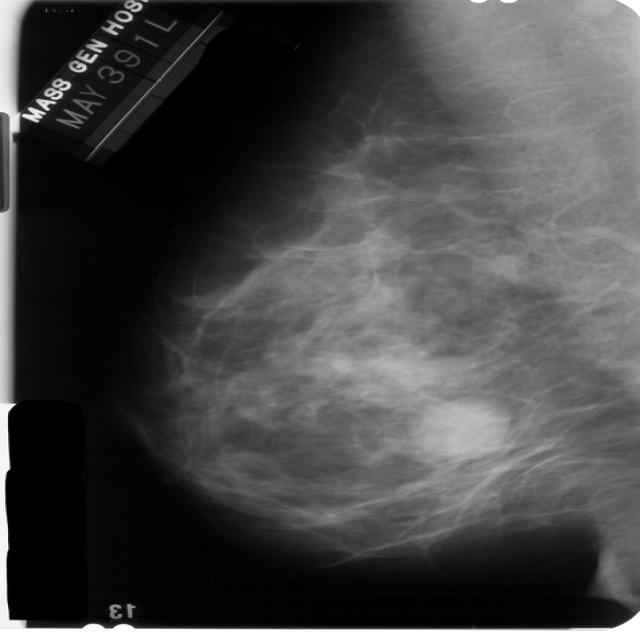tumour: (412, 398, 504, 457)
